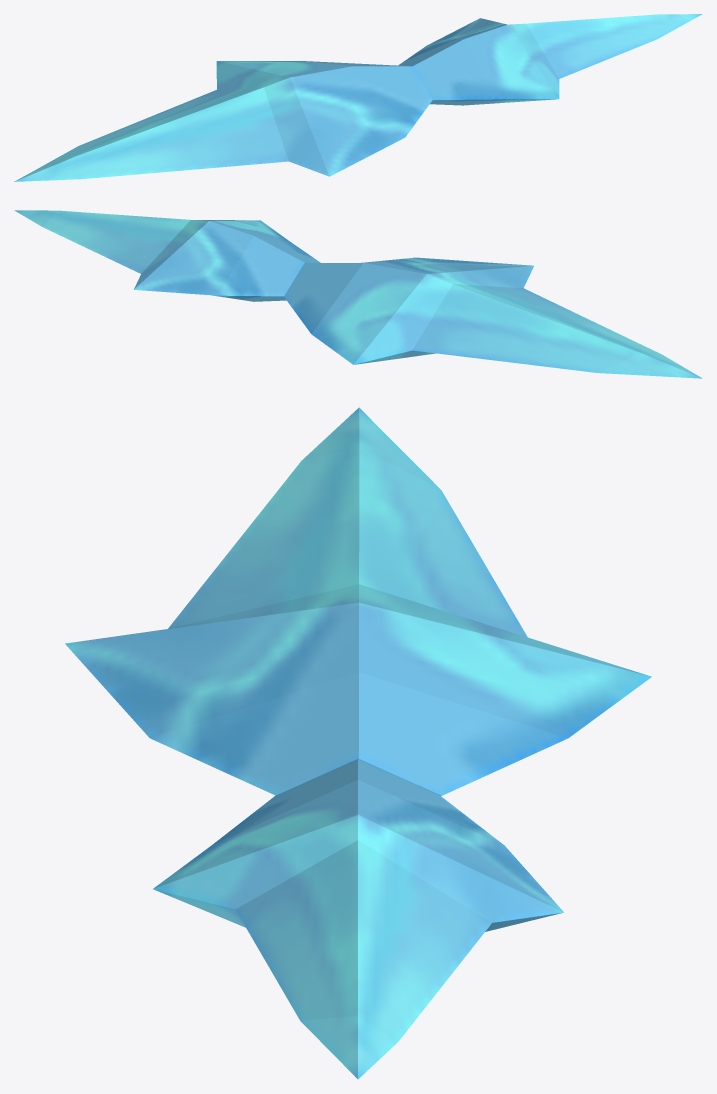
The model's file is WEA_NoKimQuy_Arrow.fbx.
3 views of the same model, one above another, from view 1: azimuth 30°, elevation 25°; view 2: azimuth 150°, elevation 25°; view 3: azimuth 270°, elevation 25° (orthographic). The views are drawn at different scales.
Visible parts, largest first — view 1: WEA_NoKimQuy_0_mesh; view 2: WEA_NoKimQuy_0_mesh; view 3: WEA_NoKimQuy_0_mesh.
Boxes of the visible parts, box(x1,y1,x2,y2) form: WEA_NoKimQuy_0_mesh: box(14, 14, 702, 181); WEA_NoKimQuy_0_mesh: box(14, 210, 702, 378); WEA_NoKimQuy_0_mesh: box(65, 407, 651, 1079).
Bounding box in the file's own units: 27.07 × 2.78 × 10.
Materials: 1 (1 with a texture image).
